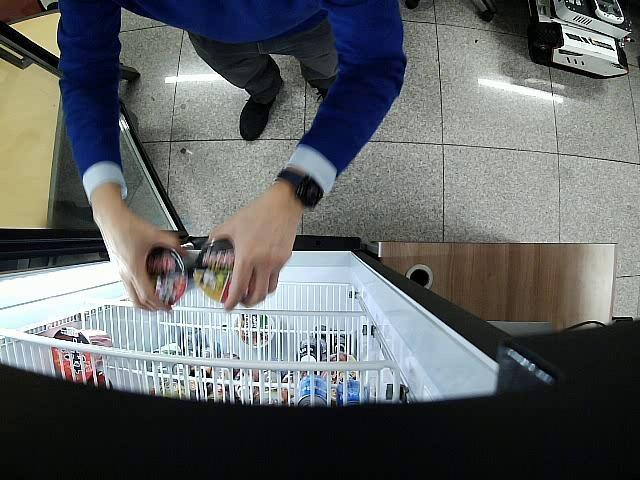08_buldak_S: (146, 248, 194, 304), (196, 238, 236, 304)
